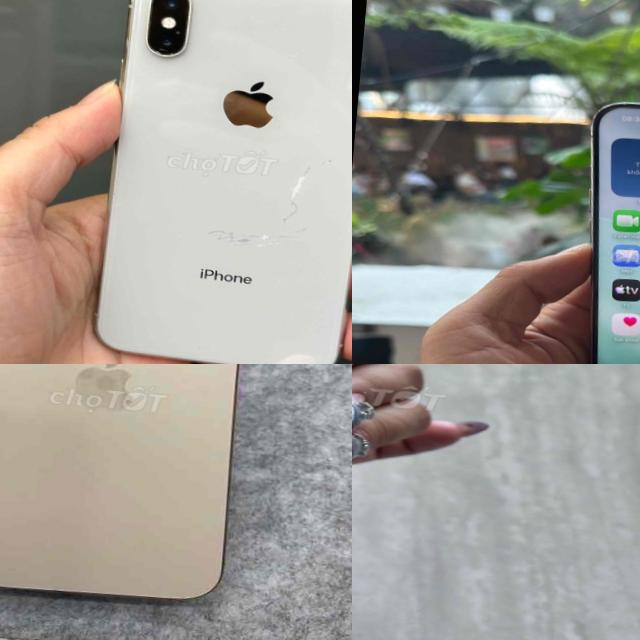gen_15: (541, 82, 640, 364)
gen_16: (0, 364, 238, 598)
gen_x_xs: (95, 0, 352, 364)
scratch: (194, 204, 294, 262), (272, 157, 318, 245), (148, 44, 182, 64)
